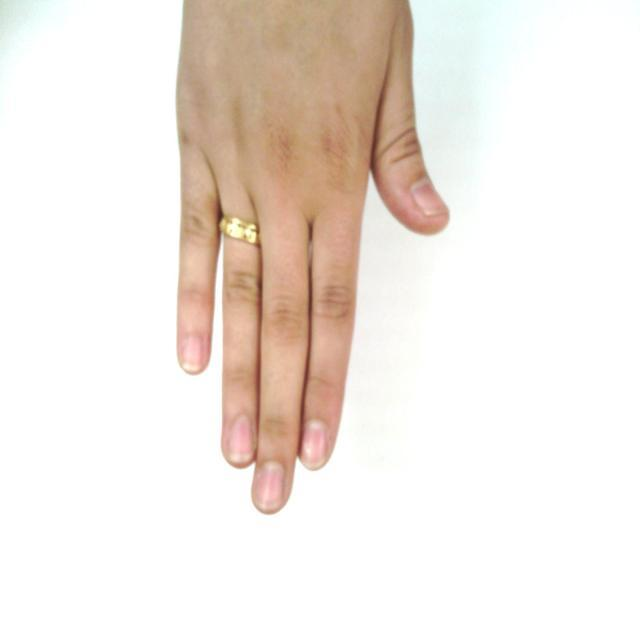Fingernail: (254, 462, 285, 510), (412, 180, 446, 216), (301, 422, 327, 469), (228, 417, 254, 462), (183, 336, 206, 371)
